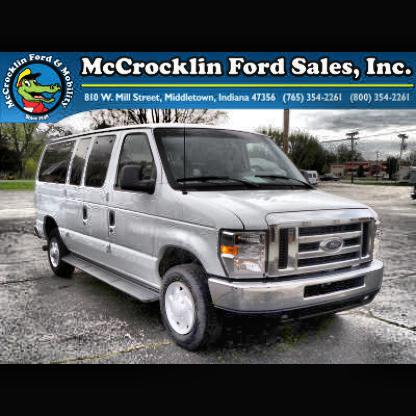Ford E-Series Wagon Van 2012: (35, 126, 386, 351)
